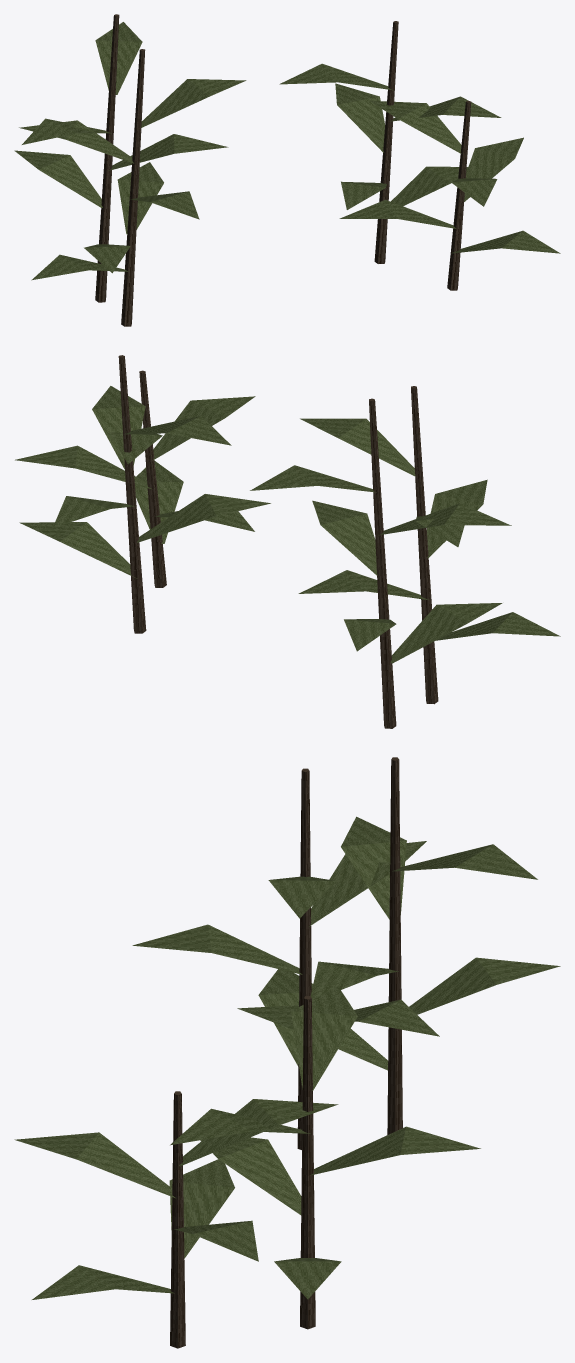
File: env_ground_07_weeds_broadleaf.glb
3 views of the same model, one above another, from view 1: azimuth 30°, elevation 25°; view 2: azimuth 150°, elevation 25°; view 3: azimuth 270°, elevation 25° (orthographic). The views are drawn at different scales.
Parts seen in each view (by area): view 1: foliage, solid; view 2: foliage, solid; view 3: foliage, solid.
Part boxes in pixels (box(x1,y1,x2,y2)): foliage: box(14, 22, 560, 280); solid: box(95, 14, 471, 326); foliage: box(15, 386, 560, 663); solid: box(118, 355, 438, 728); foliage: box(14, 816, 560, 1299); solid: box(170, 757, 402, 1348).
Size of the model in its own units: 0.7685 by 0.4268 by 0.5234.
Materials: 2 (2 with a texture image).
